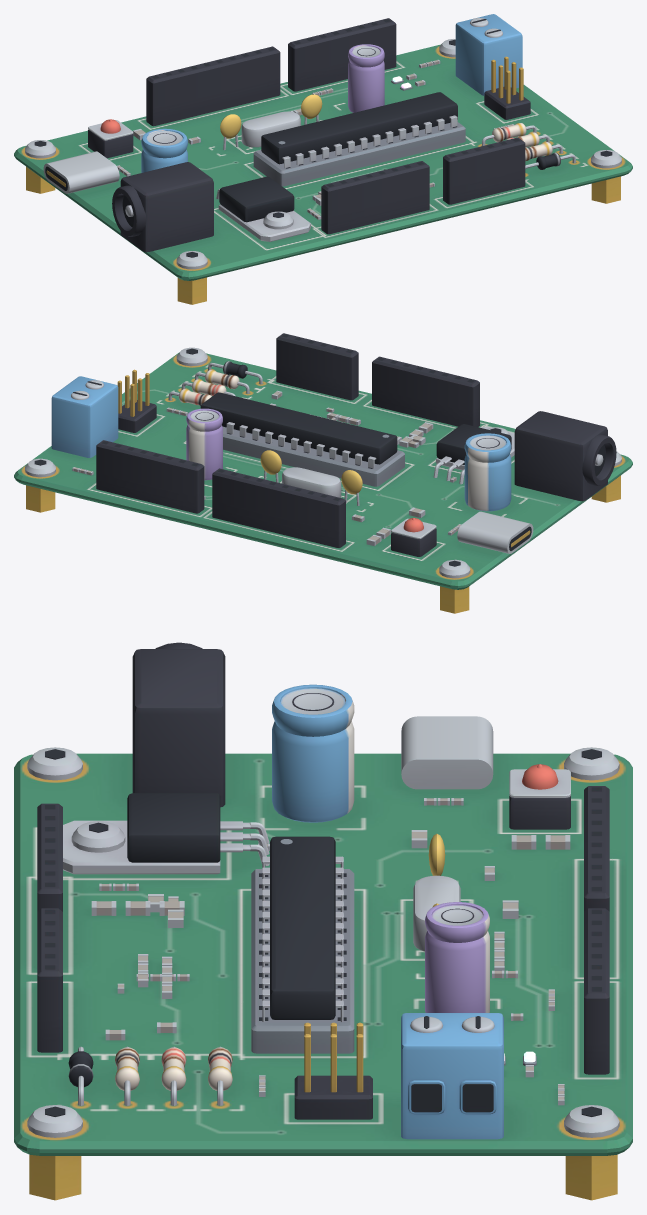
File: Circuit_Board.glb
3 views of the same model, one above another, from view 1: azimuth 30°, elevation 25°; view 2: azimuth 150°, elevation 25°; view 3: azimuth 270°, elevation 25° (orthographic). The views are drawn at different scales.
Visible parts, largest first — view 1: circuit-board_body; view 2: circuit-board_body; view 3: circuit-board_body.
Boxes of the visible parts, <box> form: circuit-board_body: <box>14,14,632,304</box>; circuit-board_body: <box>14,333,632,613</box>; circuit-board_body: <box>14,642,632,1200</box>.
Size of the model in its own units: 0.0925 by 0.0181 by 0.06.
3 materials, 1 textured.
